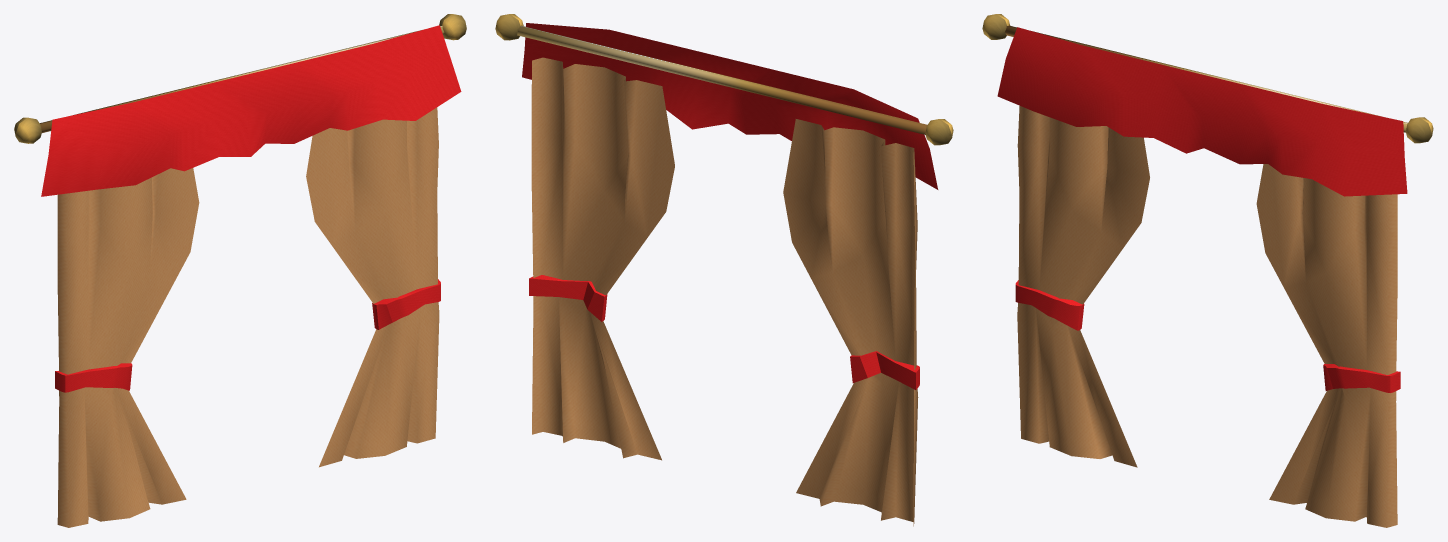
Rendered from Curtains_01_F.FBX.
The picture shows the model from 3 angles, left to right: view 1: azimuth 30°, elevation 25°; view 2: azimuth 150°, elevation 25°; view 3: azimuth 330°, elevation 25°; orthographic projection.
Visible parts, largest first — view 1: Curtains_01; view 2: Curtains_01; view 3: Curtains_01.
Part boxes in pixels (x1=…): Curtains_01: x1=14, y1=14, x2=466, y2=527; Curtains_01: x1=495, y1=14, x2=953, y2=526; Curtains_01: x1=982, y1=14, x2=1433, y2=527.
Bounding box in the file's own units: 251 × 221 × 25.59.
